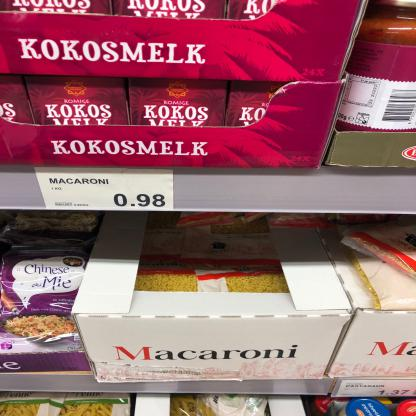prtg: (35, 169, 174, 211)
